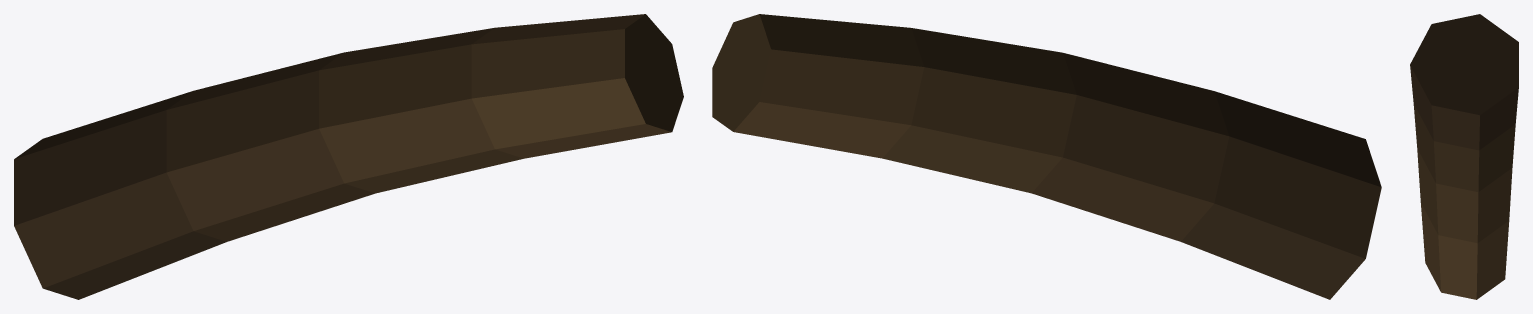
File: tronco-podre.glb
3 views of the same model, side by side, from view 1: azimuth 30°, elevation 25°; view 2: azimuth 150°, elevation 25°; view 3: azimuth 270°, elevation 25° (orthographic). The views are drawn at different scales.
Visible parts, largest first — view 1: tronco-podre; view 2: tronco-podre; view 3: tronco-podre.
Part boxes in pixels (box(x1,y1,x2,y2)): tronco-podre: box(14, 14, 683, 299); tronco-podre: box(712, 14, 1381, 299); tronco-podre: box(1410, 14, 1518, 299).
Bounding box in the file's own units: 2.7 × 0.7032 × 0.6273.
